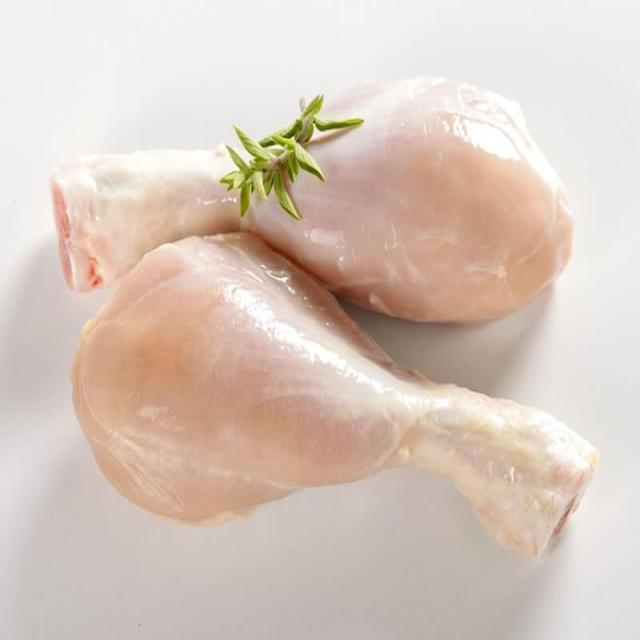leg: (88, 240, 585, 574), (51, 72, 574, 320)
